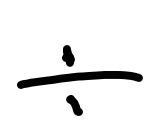div: (16, 44, 143, 114)
